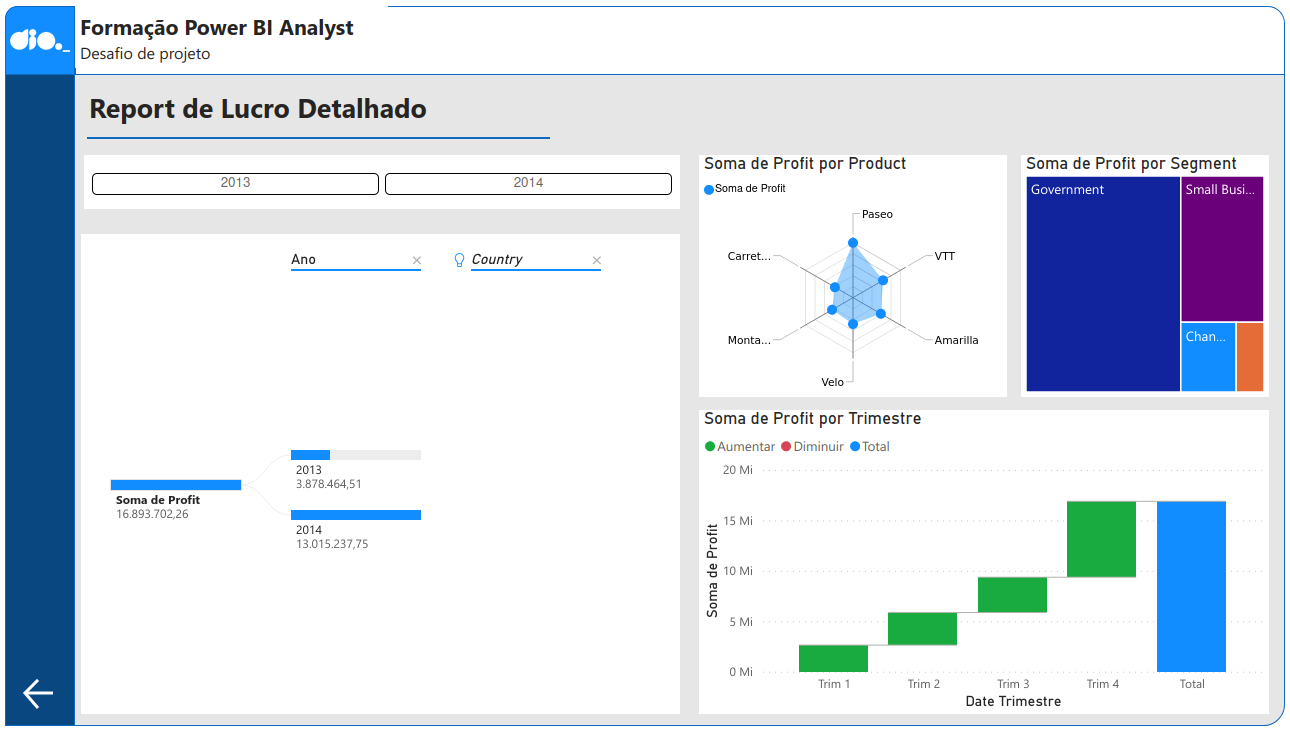

The page's visual inventory and layout, read from the dashboard file:
{"tool":"powerbi","page":{"name":"Página 2","canvas":[1280,720],"ordinal":1},"visuals":[{"type":"group","id":"g1","title":"Backgoud","box":[0,0,1280,720],"z":0},{"type":"shape","box":[0,0,1280,720],"z":0,"group":"g1"},{"type":"textbox","box":[79,78,362.7,54.1],"z":0,"group":"g2"},{"type":"shape","box":[694.3,404.3,570.1,303.3],"z":500,"group":"g1"},{"type":"shape","box":[0,0,70,720],"z":1000,"group":"g1"},{"type":"group","id":"g2","title":"Sales  report","box":[79,78,466,71],"z":1000},{"type":"shape","box":[82,115,463,34],"z":1000,"group":"g2"},{"type":"shape","box":[0,0,70,69],"z":2000,"group":"g1"},{"type":"actionButton","title":"seta_e","box":[14.2,667.7,40.8,39.9],"z":2000},{"type":"image","title":"Logo_dio","box":[0,9,70,51],"z":3000,"group":"g1"},{"type":"shape","box":[78.9,149,595.9,54.1],"z":3000},{"type":"shape","box":[70,0,1210,69],"z":4000,"group":"g1"},{"type":"shape","box":[694.3,149,278.4,242.1],"z":4000},{"type":"textbox","box":[70,0,313,62],"z":5000,"group":"g1"},{"type":"shape","box":[1016.2,149,248.3,242.1],"z":5000},{"type":"ChicletSlicer1448559807354","fields":{"Category":["financials.Date.Variation.Hierarquia de datas.Ano"]},"box":[78.9,158.7,595.9,44.3],"z":6000},{"type":"RadarChart1446119667547","fields":{"Y":["Sum(financials.Profit)"],"Category":["financials.Product"]},"box":[694.3,149,307.7,242.1],"z":7000},{"type":"decompositionTreeVisual","fields":{"Analyze":["Sum(financials.Profit)"],"ExplainBy":["financials.Date.Variation.Hierarquia de datas.Ano","financials.Country"]},"box":[76.3,227.9,598.5,479.7],"z":8000},{"type":"shape","box":[76.3,227.9,598.5,479.7],"z":8003,"group":"g1"},{"type":"waterfallChart","fields":{"Category":["financials.Date.Variation.Hierarquia de datas.Trimestre"],"Y":["Sum(financials.Profit)"]},"box":[694.3,404.3,570.1,303.3],"z":8500},{"type":"treemap","fields":{"Values":["Sum(financials.Profit)"],"Details":["financials.Segment"]},"box":[1016.2,149,248.3,242.1],"z":9000}]}

Visuals, with their boxes on the page's 1280x720 design canvas (x1, y1, x2, y2). These are canvas units, not pixel positions in the 1290x736 screenshot, which may show the page scaled, cropped or inside an application window:
"Backgoud" group: (0,0,1280,720)
shape: (0,0,1280,720)
textbox: (79,78,442,132)
shape: (694,404,1264,708)
shape: (0,0,70,720)
"Sales  report" group: (79,78,545,149)
shape: (82,115,545,149)
shape: (0,0,70,69)
"seta_e" actionButton: (14,668,55,708)
"Logo_dio" image: (0,9,70,60)
shape: (79,149,675,203)
shape: (70,0,1280,69)
shape: (694,149,973,391)
textbox: (70,0,383,62)
shape: (1016,149,1264,391)
ChicletSlicer1448559807354 - financials.Date.Variation.Hierarquia de datas.Ano: (79,159,675,203)
RadarChart1446119667547 - Sum(financials.Profit) x financials.Product: (694,149,1002,391)
decompositionTreeVisual - Sum(financials.Profit) x financials.Date.Variation.Hierarquia de datas.Ano: (76,228,675,708)
shape: (76,228,675,708)
waterfallChart - financials.Date.Variation.Hierarquia de datas.Trimestre x Sum(financials.Profit): (694,404,1264,708)
treemap - Sum(financials.Profit) x financials.Segment: (1016,149,1264,391)
